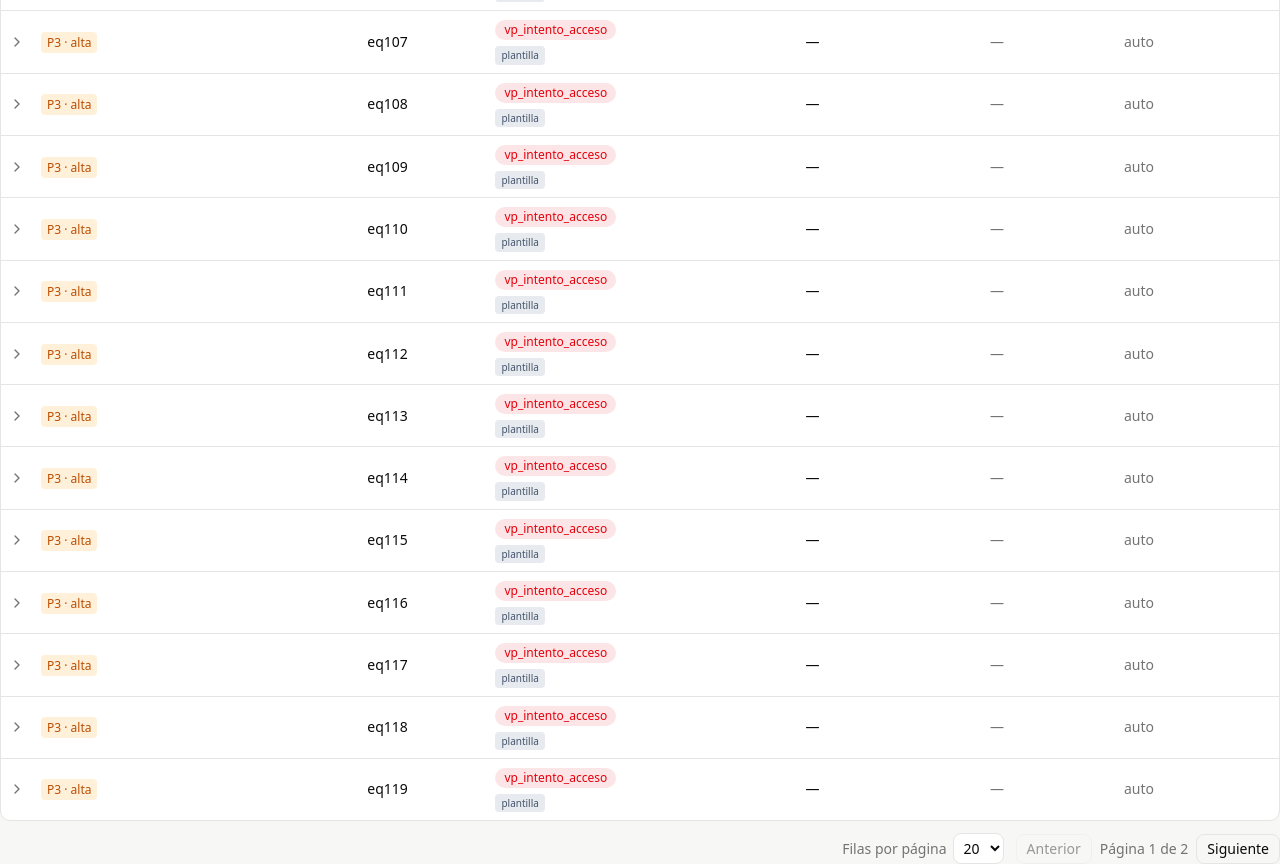
Test: Decisiones paginadas › muestra 25 por página y «Siguiente» avanza
(page scrolled)
Expected: the text "Página 1 de 2" is shown, [1100, 839, 1188, 859]
Click the button "Siguiente": (1238, 849) [1196, 834, 1279, 863]
(page scrolled)
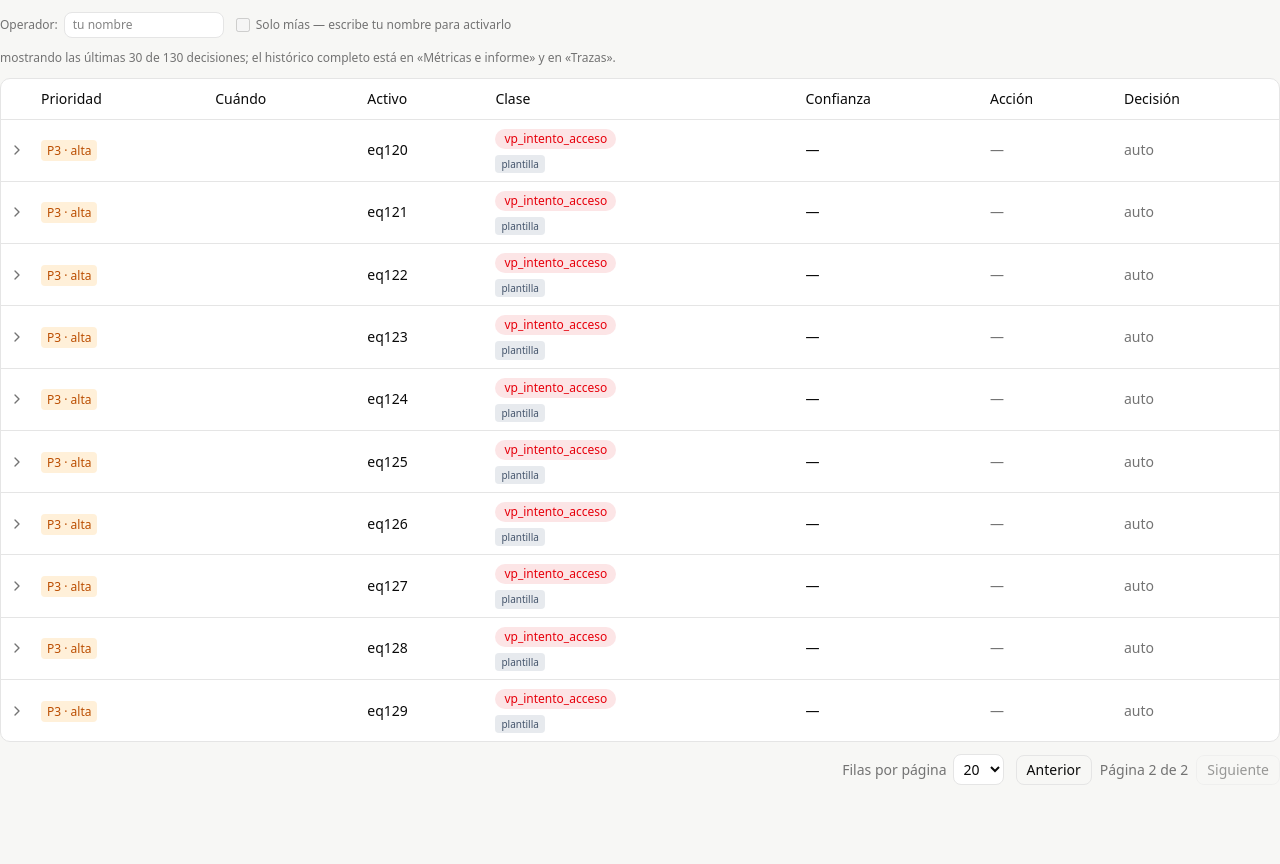
Result: the button named "ver detalle de eq129" is shown at [9, 703, 25, 719]
